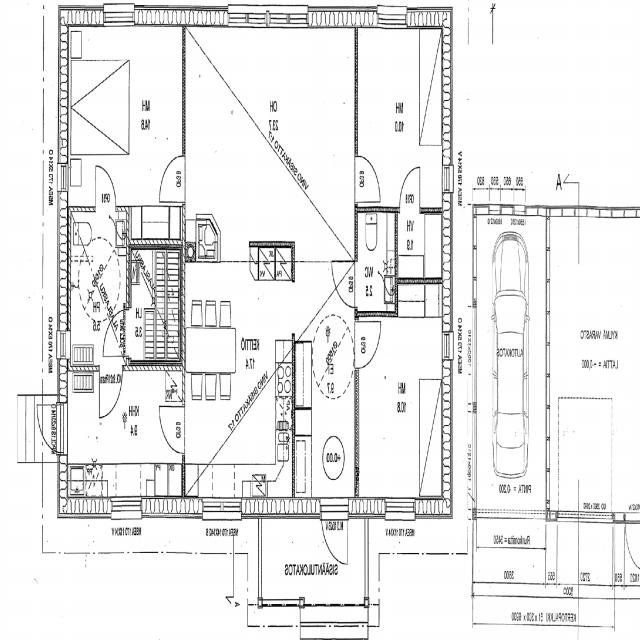door: (322, 505, 348, 564), (37, 405, 64, 452), (355, 156, 381, 202), (159, 407, 185, 453), (159, 156, 185, 202), (355, 322, 381, 368), (99, 365, 122, 416), (332, 262, 358, 307), (104, 310, 129, 356), (400, 167, 420, 213), (96, 166, 116, 212), (626, 511, 640, 556)
